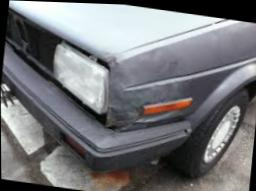Fender: (105, 100, 178, 146), (100, 50, 126, 72)
